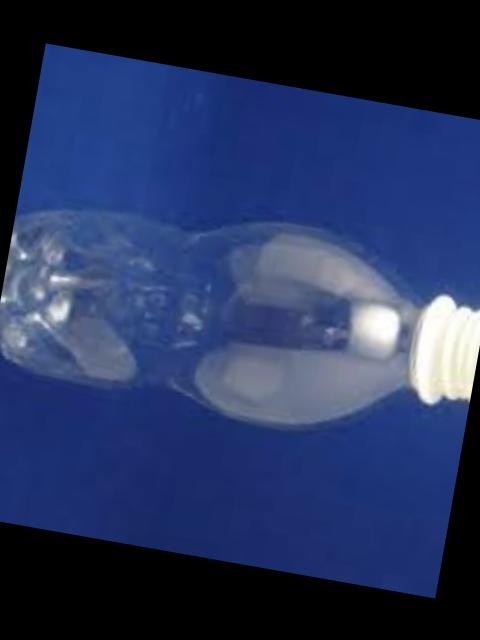plastic: (0, 213, 480, 427)
